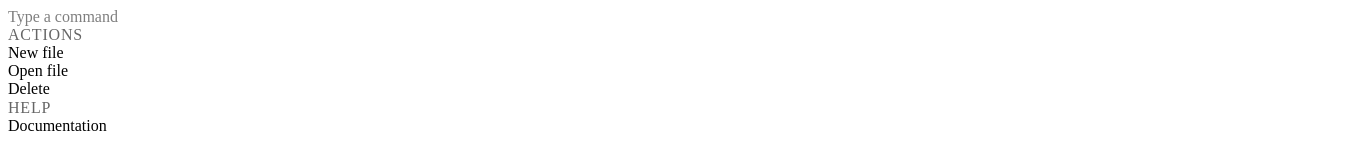
Test case: Command › reflects the query via bind:value on the input
The image size is (1366, 160).
Type "new" into the dropdown.
click(683, 17); type("new")  # box x1=8 y1=8 x2=1358 y2=26
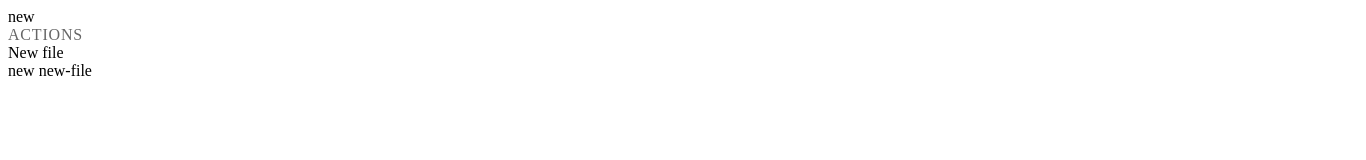
expect the text with test id "search" reads "new": met, box x1=8 y1=62 x2=35 y2=79
